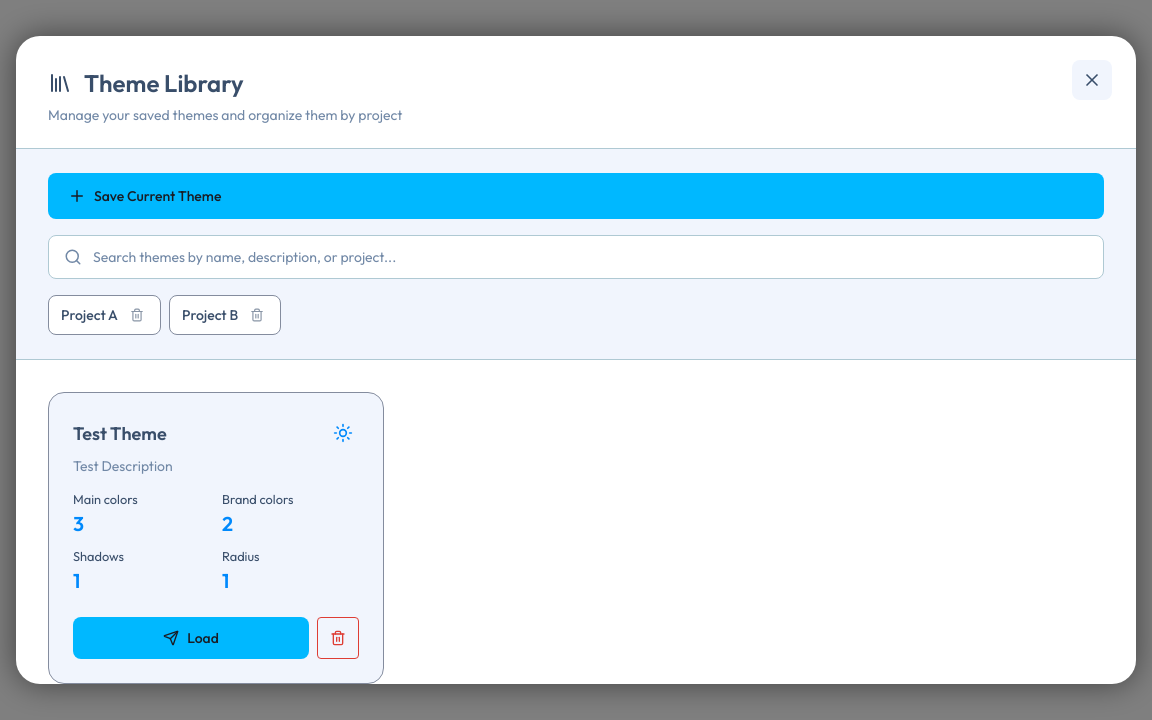
LibraryModal Component › Functionality › shows filtered empty state
Type "nonexistent" into the field labelled "Search themes" at (576, 257), box 48,235 -> 1104,279
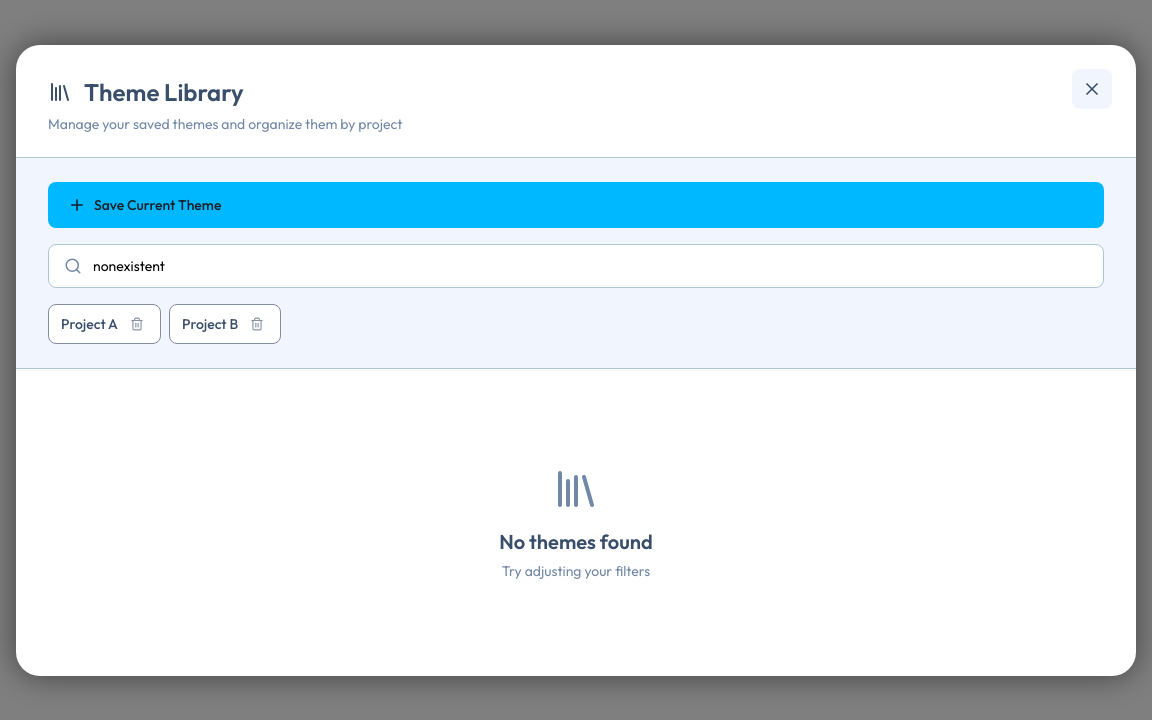
Check: the text "No themes found" is shown, box 499,528 -> 653,554
Check: the text "Try adjusting your filters" is shown, box 502,562 -> 650,580
